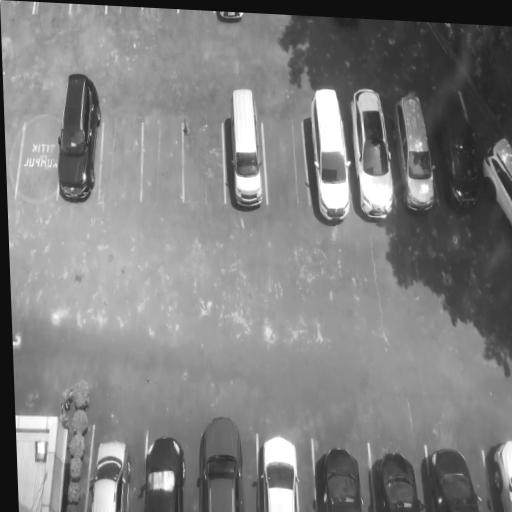Car: (347, 85, 401, 223), (388, 87, 444, 216), (432, 79, 483, 217), (304, 89, 352, 224), (56, 73, 100, 203), (225, 80, 267, 213), (201, 409, 244, 512), (424, 446, 482, 512), (477, 125, 512, 232), (87, 435, 132, 512), (261, 428, 302, 512), (143, 434, 185, 512), (375, 449, 423, 512), (317, 448, 364, 512), (485, 442, 512, 512)
Space Available: (263, 121, 309, 207), (100, 119, 145, 205), (141, 115, 185, 201), (15, 122, 58, 206), (182, 122, 223, 202)
